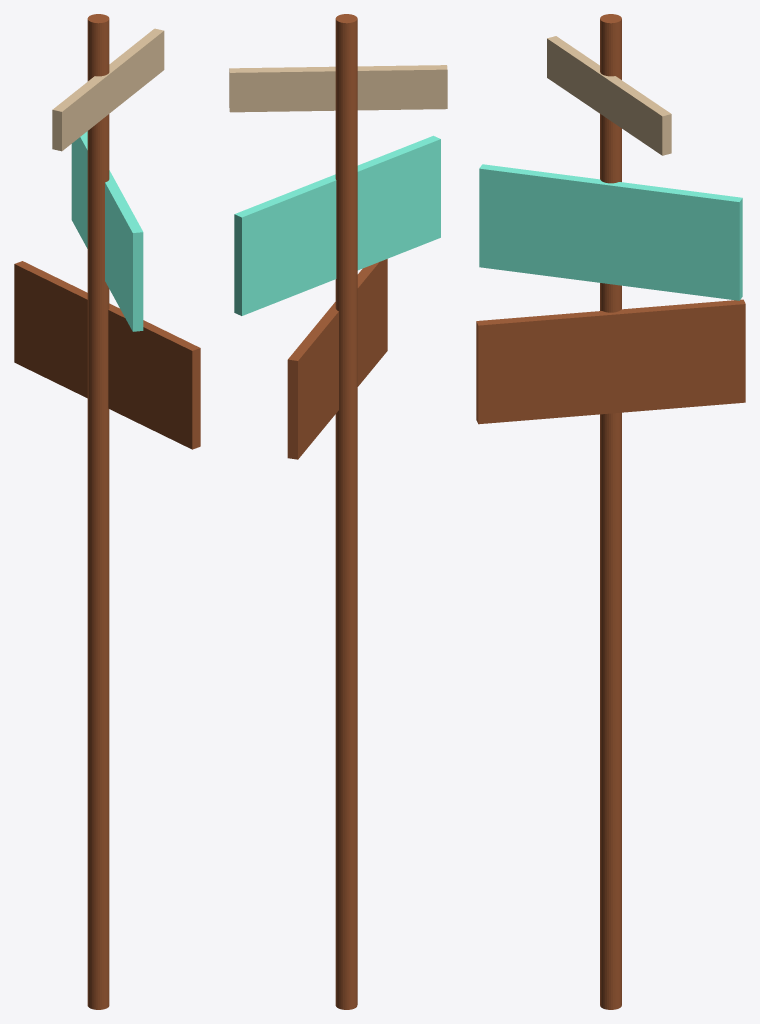
The model's file is LEO BEACH SIGNPOST.glb.
The picture shows the model from 3 angles, left to right: view 1: azimuth 30°, elevation 25°; view 2: azimuth 150°, elevation 25°; view 3: azimuth 270°, elevation 25°; orthographic projection.
Parts seen in each view (by area): view 1: Cube; view 2: Cube; view 3: Cube.
Part boxes in pixels (x1,y1,x2,y2): Cube: (14, 14, 200, 1009); Cube: (229, 14, 447, 1009); Cube: (476, 14, 745, 1009).
Bounding box in the file's own units: 3.5 × 20 × 4.95.
